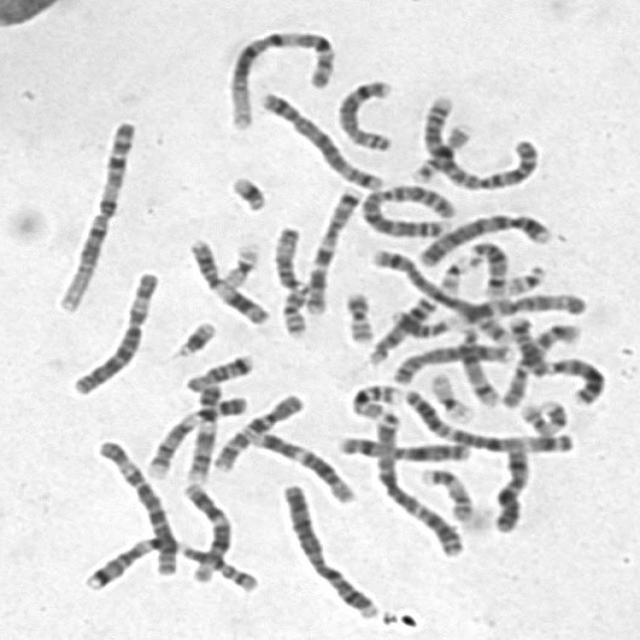A1: (47, 113, 139, 314), (219, 21, 340, 132)
A2: (412, 86, 544, 191), (354, 176, 460, 239)
A3: (365, 403, 469, 558), (394, 381, 575, 454)
B4: (272, 475, 382, 621), (411, 205, 557, 268)
B5: (361, 242, 516, 346), (252, 84, 386, 192)
C10: (206, 386, 307, 473), (494, 315, 585, 410)
C11: (180, 231, 274, 327), (474, 286, 593, 318)
C12: (245, 423, 358, 504), (175, 476, 235, 586)
C6: (88, 430, 180, 577), (62, 263, 162, 397)
C7: (298, 179, 365, 316), (76, 526, 183, 592)
C8: (386, 334, 520, 386), (329, 71, 397, 153)
C9: (137, 387, 252, 480), (180, 377, 226, 484)
D13: (360, 288, 442, 366), (538, 349, 608, 407)
D14: (449, 318, 504, 408), (462, 233, 512, 299)
D15: (265, 218, 306, 293), (386, 310, 466, 340)
E16: (406, 116, 476, 183), (341, 376, 405, 421)
E17: (413, 461, 475, 524), (511, 393, 571, 437)
E18: (177, 347, 257, 392), (502, 308, 554, 376)
F19: (423, 365, 477, 424), (214, 237, 262, 289)
F20: (337, 284, 378, 346), (274, 278, 312, 339)
G21: (165, 312, 219, 358), (221, 167, 271, 213)
G22: (432, 248, 480, 294), (496, 256, 548, 296)
X: (330, 428, 475, 463), (484, 437, 532, 534)
